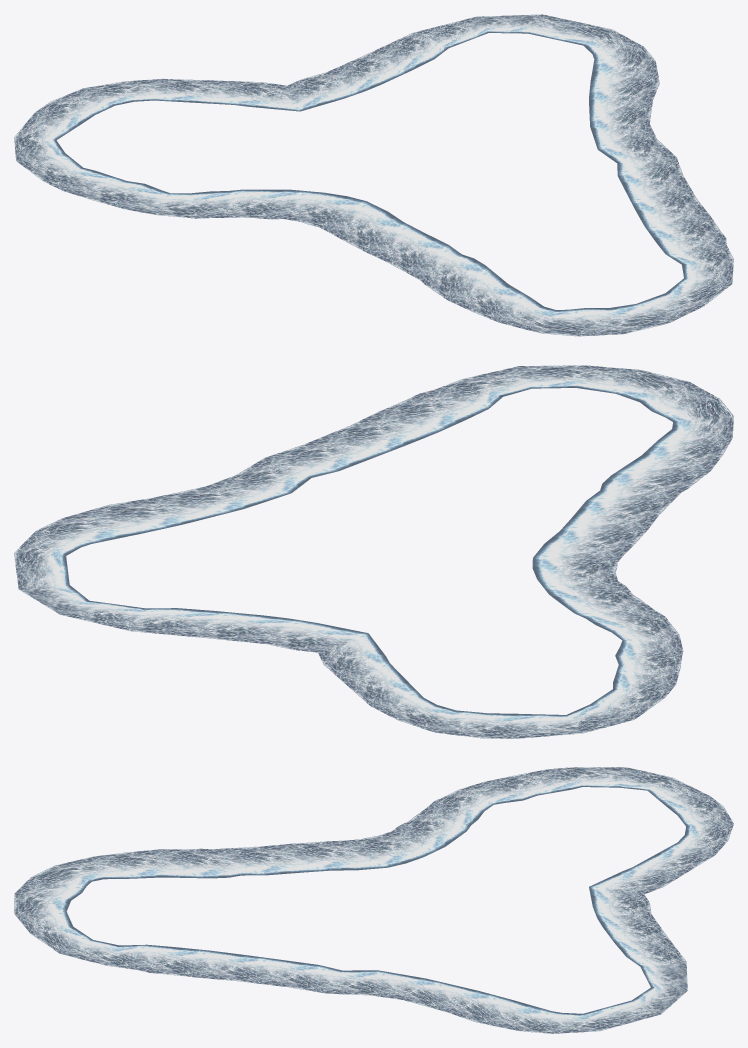
The model's file is island_12_coast.fbx.
3 renders of one model, top to bottom at view 1: azimuth 30°, elevation 25°; view 2: azimuth 150°, elevation 25°; view 3: azimuth 270°, elevation 25°, orthographic. The views are drawn at different scales.
Visible parts, largest first — view 1: island_12_coast1; view 2: island_12_coast1; view 3: island_12_coast1.
Boxes of the visible parts, box(x1,y1,x2,y2) form: island_12_coast1: box(14, 14, 733, 336); island_12_coast1: box(14, 365, 733, 738); island_12_coast1: box(14, 767, 733, 1033).
Size of the model in its own units: 0.6116 by 0 by 0.6974.
1 material, 1 textured.
